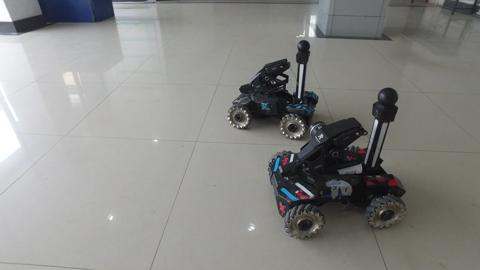chariot: (264, 83, 420, 243), (228, 38, 318, 143)
